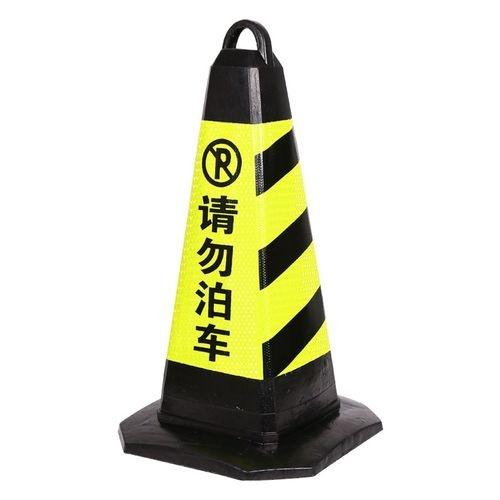cone_barrel: (129, 23, 365, 451)
